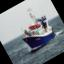fishing boat: (7, 0, 60, 53)
